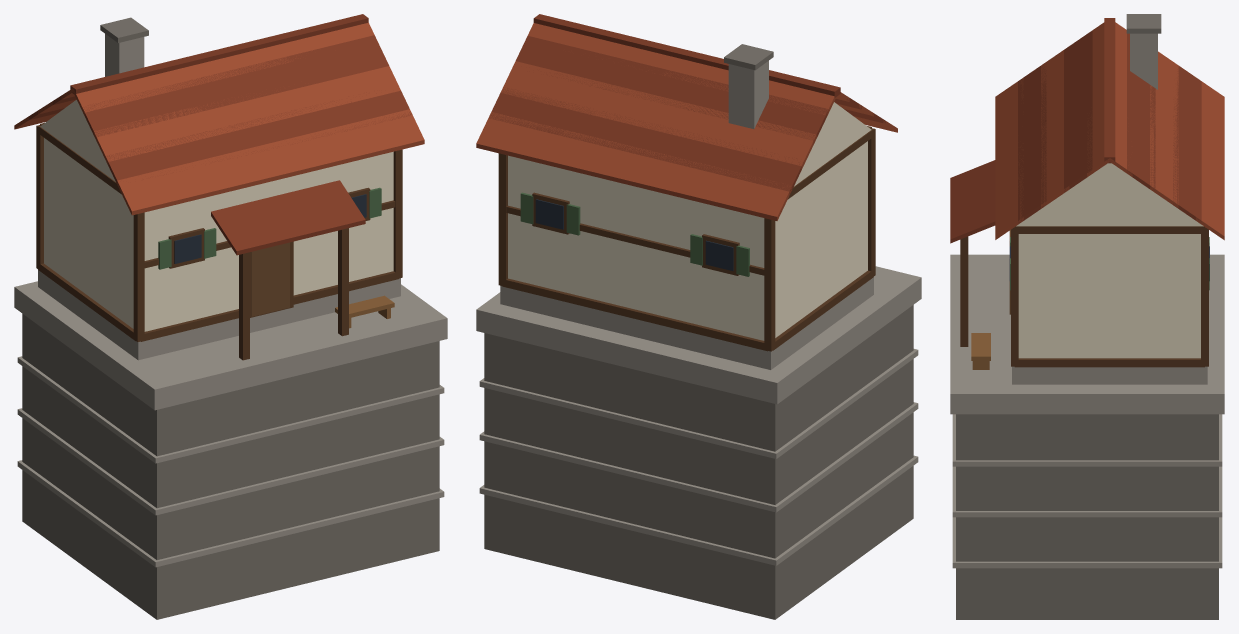
File: house_l2_3.glb
3 renders of one model, left to right at view 1: azimuth 30°, elevation 25°; view 2: azimuth 150°, elevation 25°; view 3: azimuth 270°, elevation 25°, orthographic. The views are drawn at different scales.
Visible parts, largest first — view 1: house_l2_3; view 2: house_l2_3; view 3: house_l2_3.
Part boxes in pixels (x1,y1,x2,y2): house_l2_3: [14, 14, 447, 619]; house_l2_3: [476, 14, 921, 619]; house_l2_3: [950, 14, 1224, 619].
Size of the model in its own units: 5.9 by 9.75 by 4.9.
